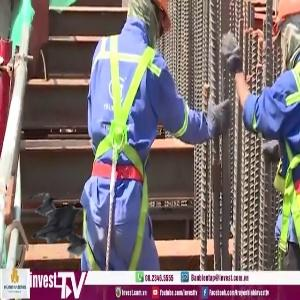drone: (28, 176, 115, 263)
